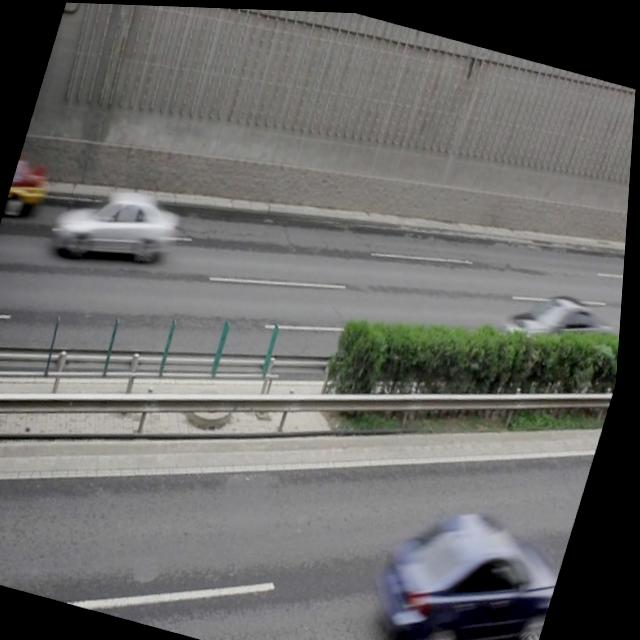car: (374, 487, 579, 640), (52, 171, 188, 277), (498, 279, 613, 371), (5, 142, 62, 221), (0, 448, 12, 577)
